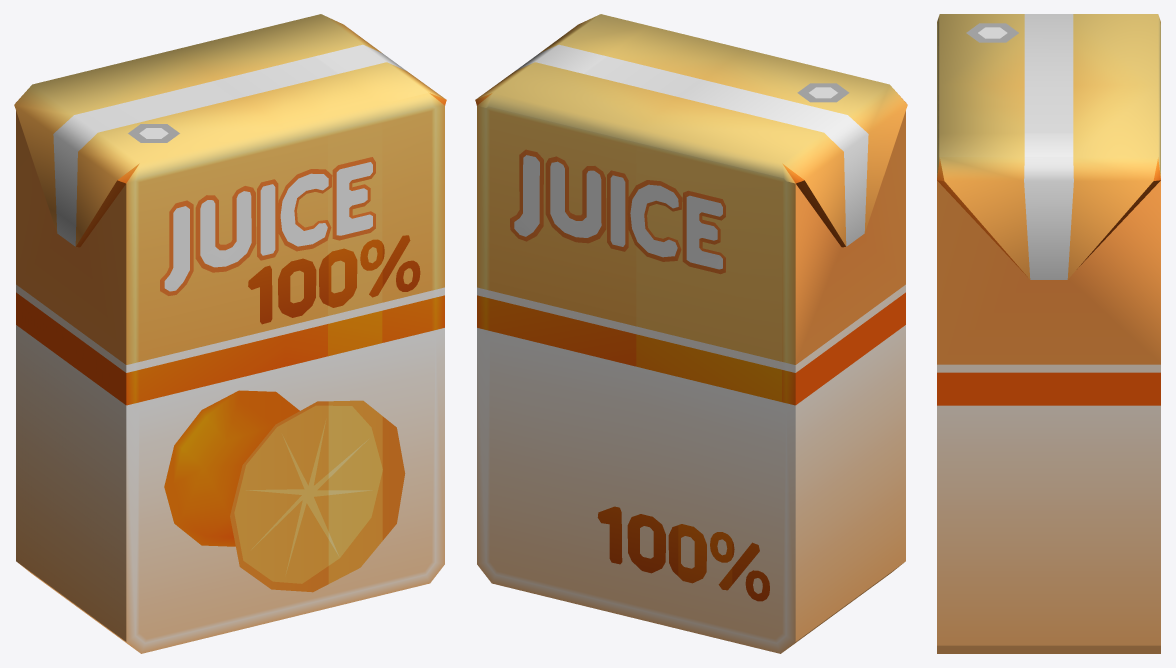
File: CR_Juicepack_001.FBX
3 renders of one model, left to right at view 1: azimuth 30°, elevation 25°; view 2: azimuth 150°, elevation 25°; view 3: azimuth 270°, elevation 25°, orthographic.
Visible parts, largest first — view 1: CR_Juicepack_001; view 2: CR_Juicepack_001; view 3: CR_Juicepack_001.
Part boxes in pixels (bbox=[...]): CR_Juicepack_001: bbox=[14, 14, 446, 653]; CR_Juicepack_001: bbox=[475, 14, 907, 653]; CR_Juicepack_001: bbox=[937, 14, 1160, 653].
Bounding box in the file's own units: 8.37 × 4.9 × 11.91.
